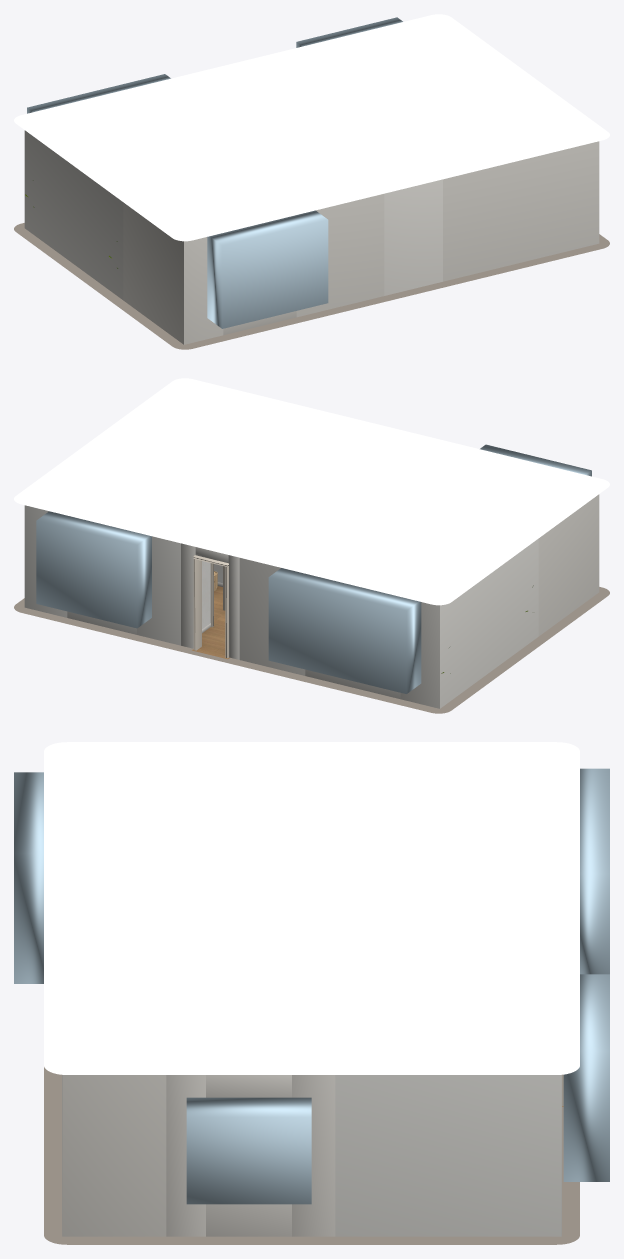
File: apartment-v2.glb
3 renders of one model, top to bottom at view 1: azimuth 30°, elevation 25°; view 2: azimuth 150°, elevation 25°; view 3: azimuth 270°, elevation 25°, orthographic. The views are drawn at different scales.
Parts seen in each view (by area): view 1: ceiling_material_366, architecture_0571_material_341, architecture_0104_material_087, architecture_0110_material_092, architecture_0002_material_002, architecture_0188_material_148, architecture_0621_material_367, architecture_0005_material_005, architecture_0272_material_204; view 2: ceiling_material_366, architecture_0002_material_002, architecture_0005_material_005, architecture_0272_material_204, architecture_0104_material_087, architecture_0269_material_201, architecture_0621_material_367, architecture_0188_material_148, architecture_0190_material_150, architecture_0110_material_092, architecture_0186_material_147, architecture_0201_material_157; view 3: ceiling_material_366, architecture_0269_material_201, architecture_0571_material_341, architecture_0369_material_270, architecture_0372_material_273, architecture_0621_material_367, architecture_0272_material_204, architecture_0110_material_092, architecture_0005_material_005.
Boxes of the visible parts, left/top/right/bottom form: ceiling_material_366: left=14, top=14, right=609, bottom=241; architecture_0571_material_341: left=443, top=141, right=599, bottom=281; architecture_0104_material_087: left=123, top=194, right=384, bottom=344; architecture_0110_material_092: left=207, top=210, right=328, bottom=328; architecture_0002_material_002: left=24, top=130, right=123, bottom=299; architecture_0188_material_148: left=384, top=179, right=442, bottom=295; architecture_0621_material_367: left=14, top=223, right=609, bottom=349; architecture_0005_material_005: left=27, top=74, right=170, bottom=113; architecture_0272_material_204: left=296, top=17, right=402, bottom=47; ceiling_material_366: left=14, top=378, right=609, bottom=605; architecture_0002_material_002: left=239, top=538, right=538, bottom=708; architecture_0005_material_005: left=268, top=568, right=421, bottom=693; architecture_0272_material_204: left=36, top=511, right=151, bottom=628; architecture_0104_material_087: left=538, top=494, right=599, bottom=636; architecture_0269_material_201: left=24, top=505, right=180, bottom=645; architecture_0621_material_367: left=14, top=587, right=609, bottom=713; architecture_0188_material_148: left=181, top=543, right=239, bottom=659; architecture_0190_material_150: left=193, top=559, right=201, bottom=650; architecture_0110_material_092: left=480, top=444, right=591, bottom=476; architecture_0186_material_147: left=199, top=613, right=225, bottom=654; architecture_0201_material_157: left=202, top=561, right=210, bottom=629; ceiling_material_366: left=44, top=742, right=579, bottom=1074; architecture_0269_material_201: left=335, top=1075, right=561, bottom=1236; architecture_0571_material_341: left=62, top=1075, right=166, bottom=1236; architecture_0369_material_270: left=166, top=1075, right=335, bottom=1236; architecture_0372_material_273: left=186, top=1097, right=311, bottom=1204; architecture_0621_material_367: left=44, top=1067, right=579, bottom=1244; architecture_0272_material_204: left=563, top=974, right=609, bottom=1181; architecture_0110_material_092: left=14, top=772, right=43, bottom=983; architecture_0005_material_005: left=580, top=768, right=609, bottom=974.
Bounding box in the file's own units: 12.35 × 2.83 × 9.
Materials: 369 (192 with a texture image).
